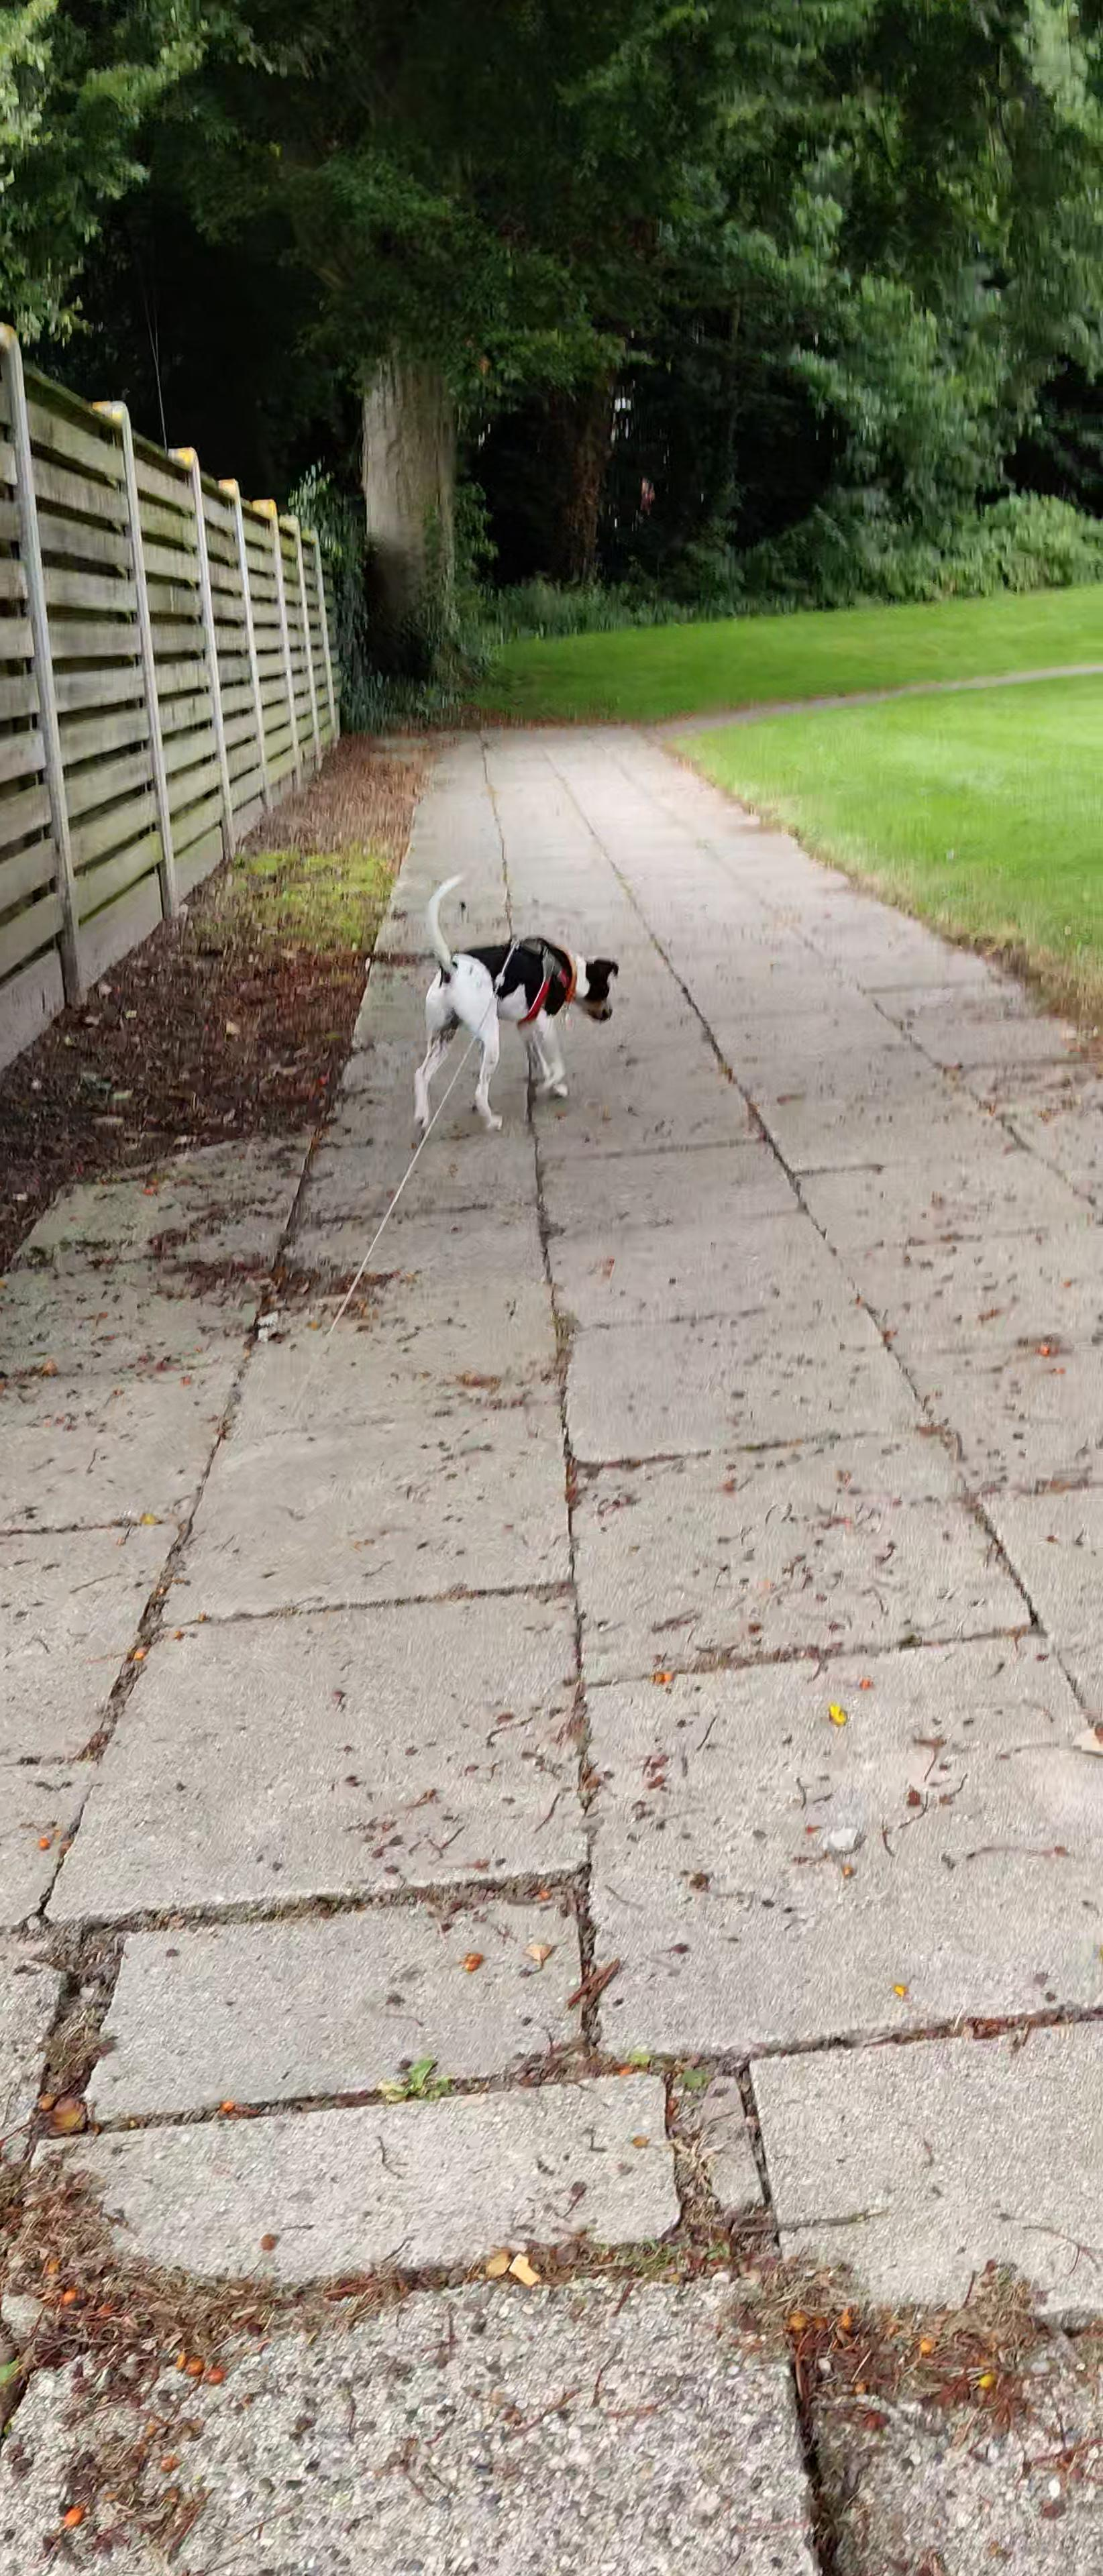Dog: (401, 858, 626, 1148)
